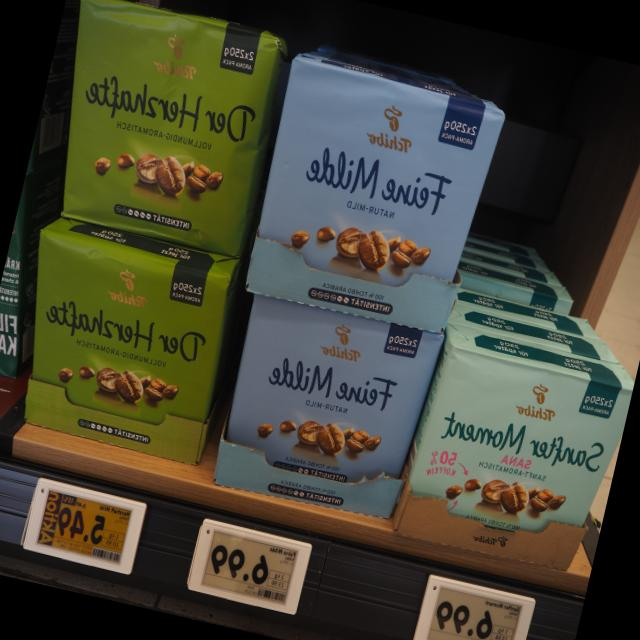Empty Shelf: (443, 118, 640, 385)
FM Gemahlen: (240, 55, 508, 333), (211, 293, 444, 521)
Herzhatfe Mundig: (58, 0, 289, 257), (21, 226, 229, 470)
SM Gemahlen: (392, 336, 631, 566)
